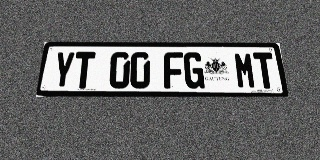0: (109, 52, 130, 89), (130, 52, 150, 89)
F: (164, 52, 184, 89)
G: (183, 52, 205, 89)
M: (233, 52, 257, 89)
T: (72, 52, 96, 89), (253, 52, 277, 89)
Y: (51, 52, 76, 89)
